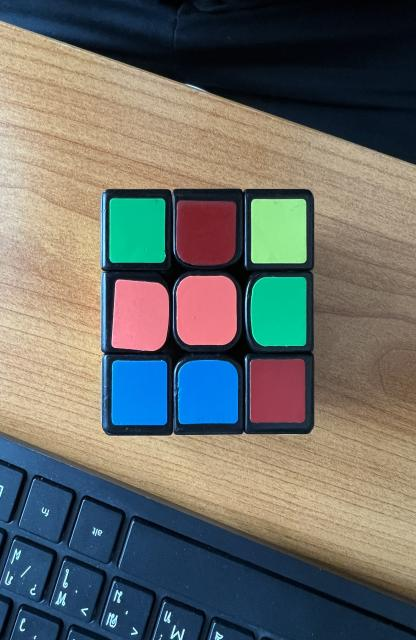Blue: (178, 360, 238, 424), (112, 360, 168, 425)
Green: (250, 276, 307, 346), (109, 198, 166, 262)
Orange: (177, 275, 237, 345), (112, 279, 169, 351)
Red: (176, 200, 236, 265), (250, 359, 306, 422)
Yellow: (251, 199, 307, 264)
